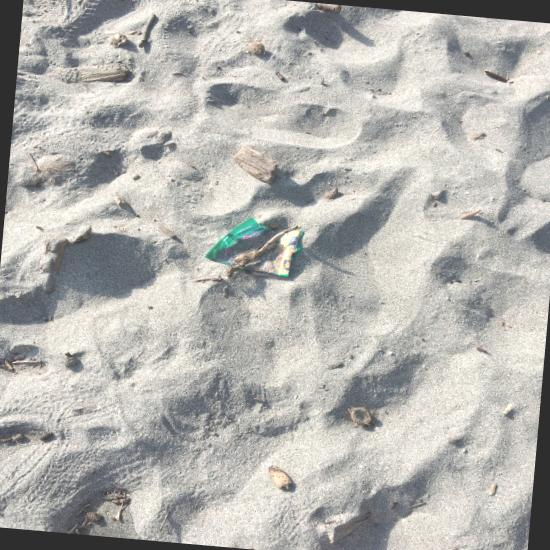Other plastic: (204, 216, 276, 264), (238, 230, 304, 277)
